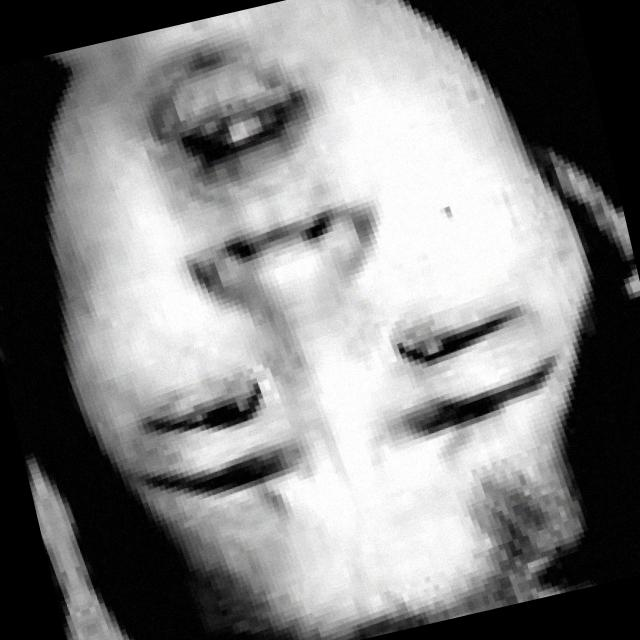disgust: (19, 0, 609, 602)
